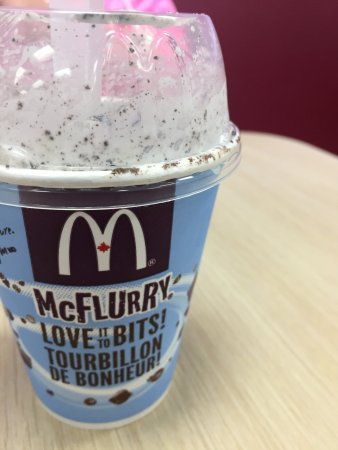mcdonalds: (52, 203, 147, 277)
